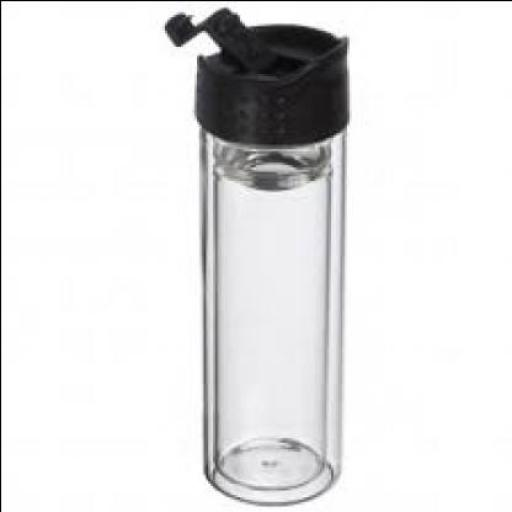glass: (205, 128, 345, 500)
plastic: (166, 4, 351, 144)
